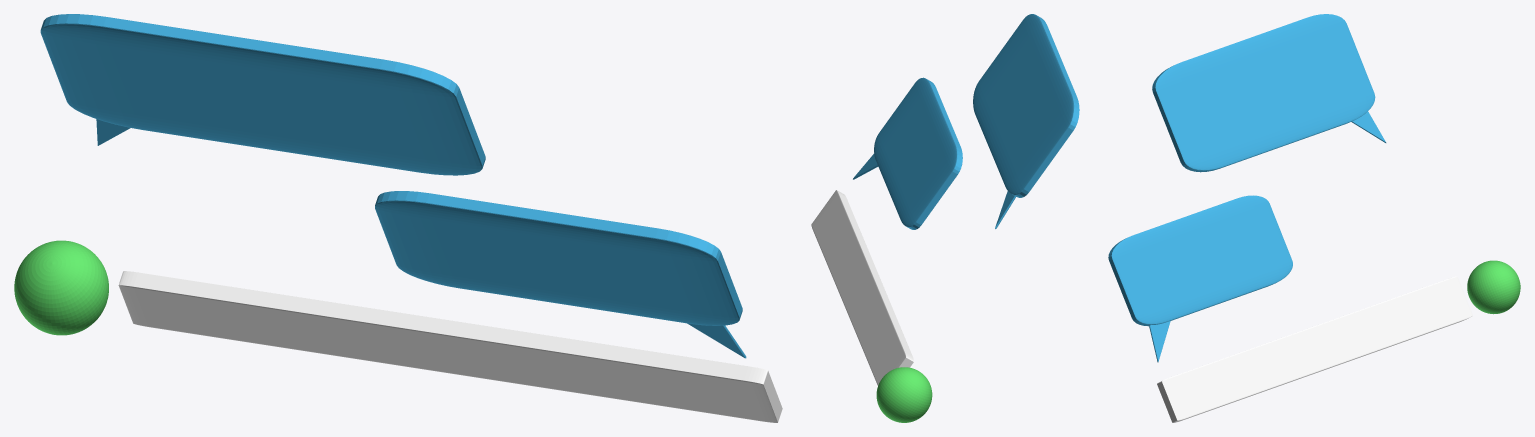
The model's file is Service2.glb.
The picture shows the model from 3 angles, left to right: view 1: azimuth 30°, elevation 25°; view 2: azimuth 150°, elevation 25°; view 3: azimuth 270°, elevation 25°; orthographic projection. The views are drawn at different scales.
Parts seen in each view (by area): view 1: Cube.002, Cube, Cube.001, Sphere; view 2: Cube.002, Cube.001, Cube, Sphere; view 3: Cube.002, Cube.001, Cube, Sphere.
Boxes of the visible parts, x1=… form: Cube.002: x1=40, y1=14, x2=485, y2=175; Cube: x1=118, y1=271, x2=782, y2=422; Cube.001: x1=375, y1=191, x2=746, y2=358; Sphere: x1=14, y1=240, x2=108, y2=335; Cube.002: x1=973, y1=14, x2=1079, y2=228; Cube.001: x1=853, y1=77, x2=962, y2=229; Cube: x1=811, y1=190, x2=913, y2=385; Sphere: x1=876, y1=367, x2=932, y2=422; Cube.002: x1=1152, y1=14, x2=1386, y2=172; Cube.001: x1=1108, y1=195, x2=1292, y2=362; Cube: x1=1157, y1=276, x2=1472, y2=422; Sphere: x1=1467, y1=260, x2=1520, y2=314.
Size of the model in its own units: 3.83 by 2.85 by 4.08.
